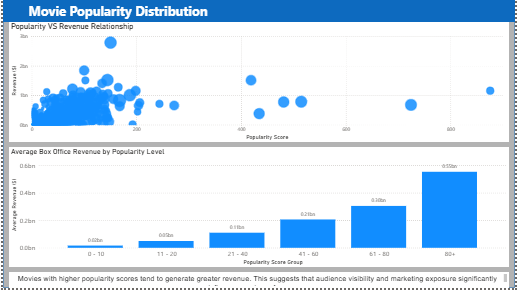

The page's visual inventory and layout, read from the dashboard file:
{"tool":"powerbi","page":{"name":"Movie Popularity Distribution","canvas":[1280,720],"ordinal":2},"visuals":[{"type":"shape","box":[0,0,1280,720],"z":0},{"type":"scatterChart","title":"Popularity VS Revenue Relationship","fields":{"X":["tmdb_processed.popularity"],"Y":["tmdb_processed.revenue"],"Size":["Sum(tmdb_processed.vote_count)"]},"box":[15,55.8,1250,300],"z":1000},{"type":"textbox","box":[15,680,1250,40],"z":2000},{"type":"textbox","box":[0,0,1280,55],"z":3000},{"type":"clusteredColumnChart","title":"Average Box Office Revenue by Popularity Level","fields":{"Category":["tmdb_processed.Popularity Group"],"Y":["Avg(tmdb_processed.revenue)"]},"box":[15,367.5,1250,300],"z":4000}]}

Visuals, with their boxes in screenshot pixels (x1, y1, x2, y2), scaled from the page's 1280x720 canvas onto the 517x291 screenshot:
shape: box(0, 0, 516, 290)
"Popularity VS Revenue Relationship" scatterChart: box(6, 23, 511, 144)
textbox: box(6, 275, 511, 290)
textbox: box(0, 0, 516, 22)
"Average Box Office Revenue by Popularity Level" clusteredColumnChart: box(6, 149, 511, 270)
